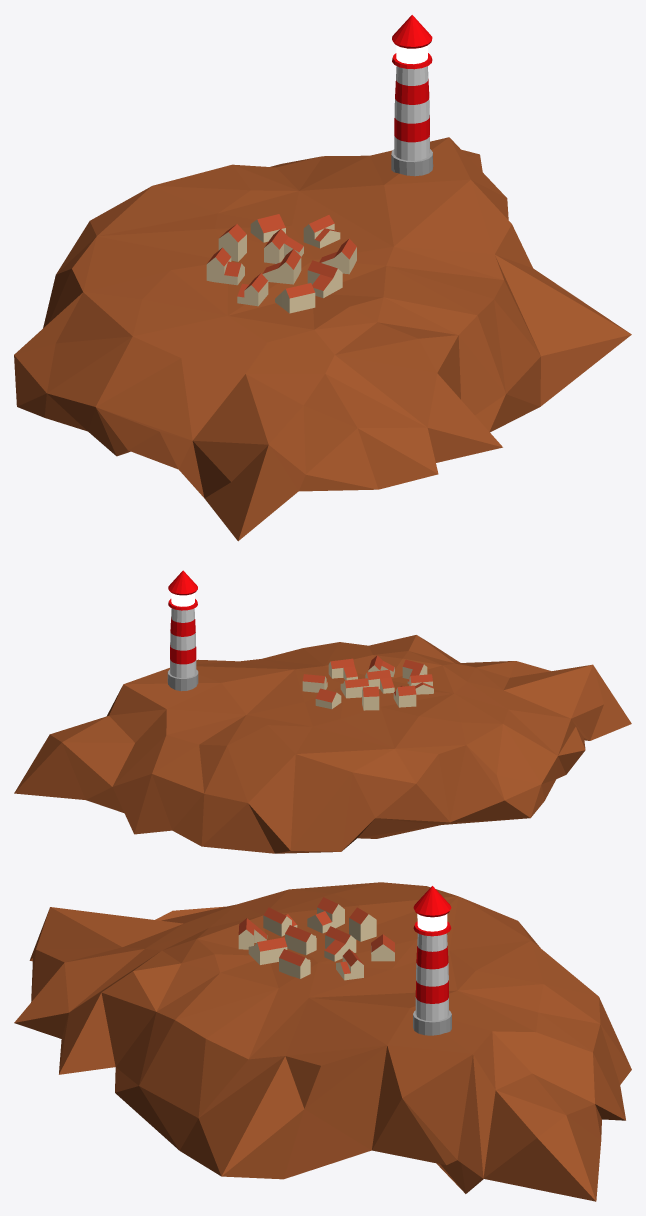
Rendered from LightHouse.glb.
3 views of the same model, one above another, from view 1: azimuth 30°, elevation 25°; view 2: azimuth 150°, elevation 25°; view 3: azimuth 270°, elevation 25° (orthographic). The views are drawn at different scales.
Visible parts, largest first — view 1: Base Rocks, Light House, Cube.004, Cube.007, Cube.003, Cube.006, Cube.008, Cube.009, Cube, Cube.002, Cube.005; view 2: Base Rocks, Light House, Cube.002, Cube.006, Cube.004, Cube.009, Cube.005, Cube, Cube.001, Cube.008; view 3: Base Rocks, Light House, Cube.004, Cube.009, Cube.007, Cube, Cube.002, Cube.006, Cube.008, Cube.005, Cube.003, Cube.001.
Boxes of the visible parts, <box> form: Base Rocks: <box>14,137,631,541</box>; Light House: <box>391,15,433,176</box>; Cube.004: <box>206,247,244,285</box>; Cube.007: <box>307,260,342,298</box>; Cube.003: <box>275,283,315,313</box>; Cube.006: <box>262,249,301,284</box>; Cube.008: <box>303,215,340,248</box>; Cube.009: <box>264,229,303,263</box>; Cube: <box>218,224,246,261</box>; Cube.002: <box>319,238,356,274</box>; Cube.005: <box>237,273,268,306</box>; Base Rocks: <box>14,635,631,853</box>; Light House: <box>167,570,198,691</box>; Cube.002: <box>328,658,357,680</box>; Cube.006: <box>365,669,394,693</box>; Cube.004: <box>393,685,416,707</box>; Cube.009: <box>340,678,368,698</box>; Cube.005: <box>409,674,433,694</box>; Cube: <box>362,686,379,710</box>; Cube.001: <box>315,688,341,709</box>; Cube.008: <box>302,674,327,692</box>; Base Rocks: <box>14,882,631,1201</box>; Light House: <box>413,886,451,1035</box>; Cube.004: <box>307,897,344,933</box>; Cube.009: <box>324,926,356,961</box>; Cube.007: <box>248,937,287,964</box>; Cube: <box>349,907,376,941</box>; Cube.002: <box>279,949,310,978</box>; Cube.006: <box>285,925,316,955</box>; Cube.008: <box>336,949,363,980</box>; Cube.005: <box>263,907,297,936</box>; Cube.003: <box>238,918,267,949</box>; Cube.001: <box>371,934,394,961</box>.
Size of what is drawn, in the model's own units: 16.98 by 8.75 by 17.09.
